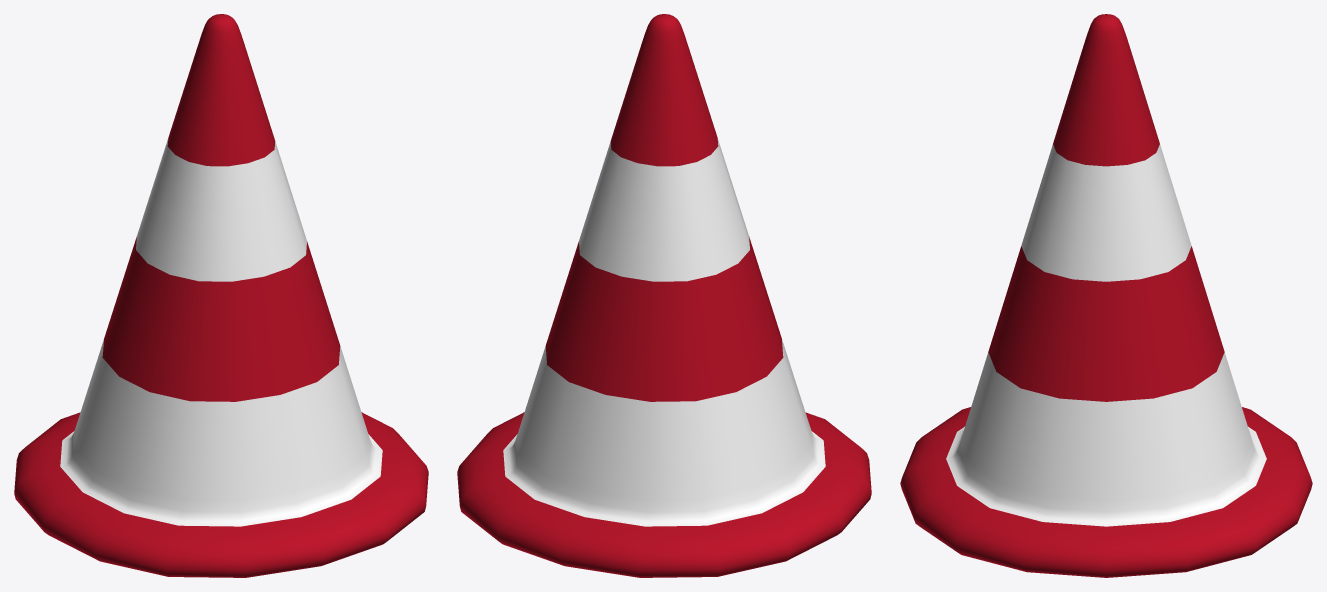
File: SM_Absperrung_03.fbx
3 renders of one model, left to right at view 1: azimuth 30°, elevation 25°; view 2: azimuth 150°, elevation 25°; view 3: azimuth 270°, elevation 25°, orthographic.
Visible parts, largest first — view 1: Absperrung_03.001; view 2: Absperrung_03.001; view 3: Absperrung_03.001.
Boxes of the visible parts, x1,y1,x2,y2 form: Absperrung_03.001: [14, 14, 428, 577]; Absperrung_03.001: [457, 14, 871, 577]; Absperrung_03.001: [900, 14, 1312, 577].
Size of the model in its own units: 81.55 by 105 by 81.55.
